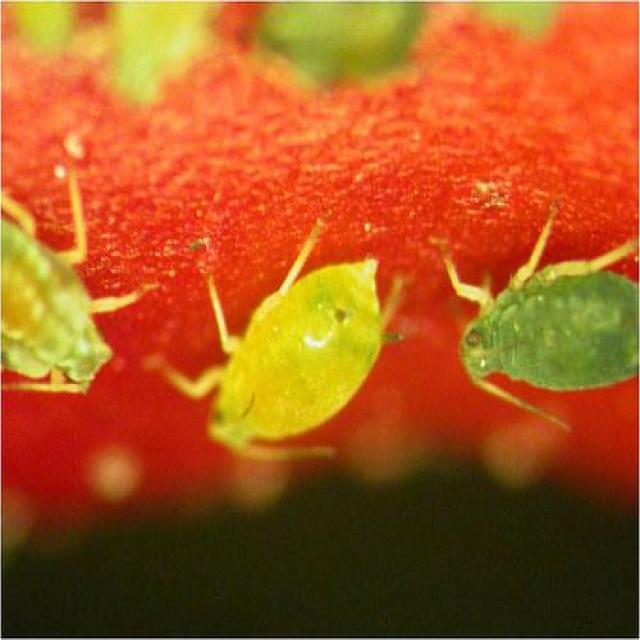Aphids: (179, 227, 402, 464), (432, 248, 628, 418)
